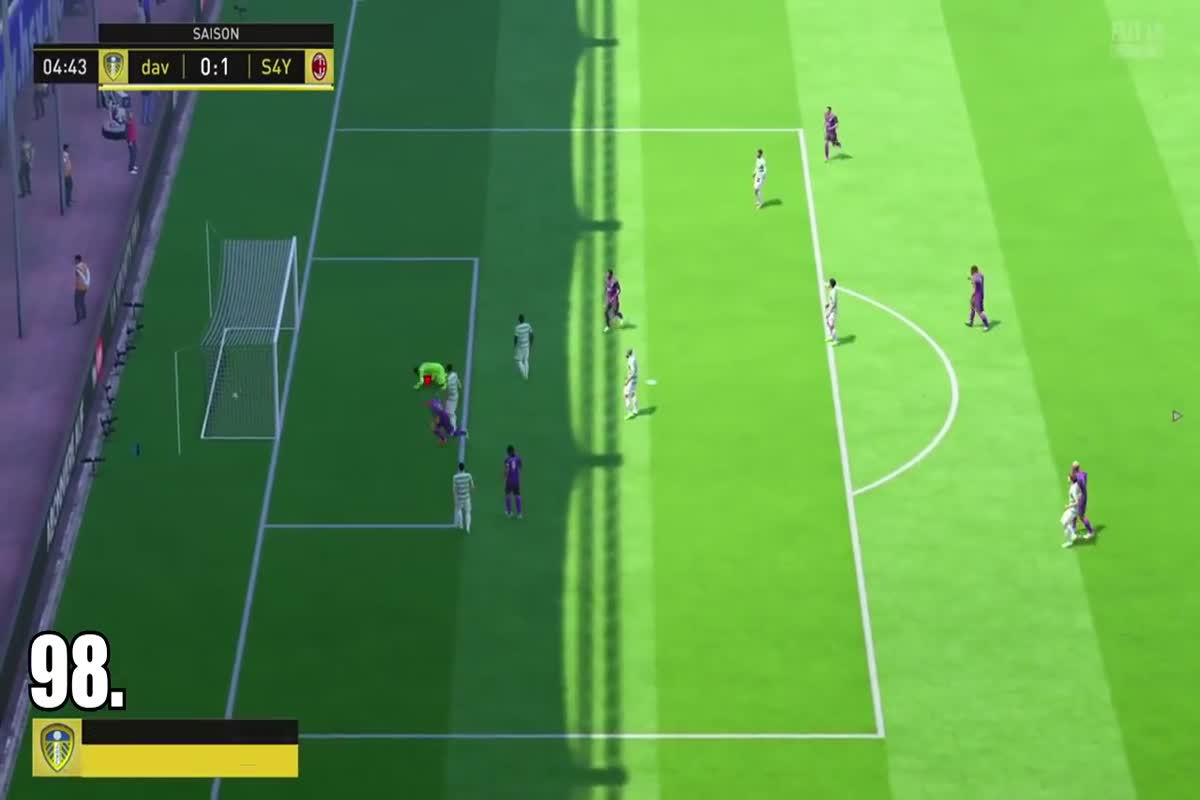ball: (224, 386, 248, 404)
